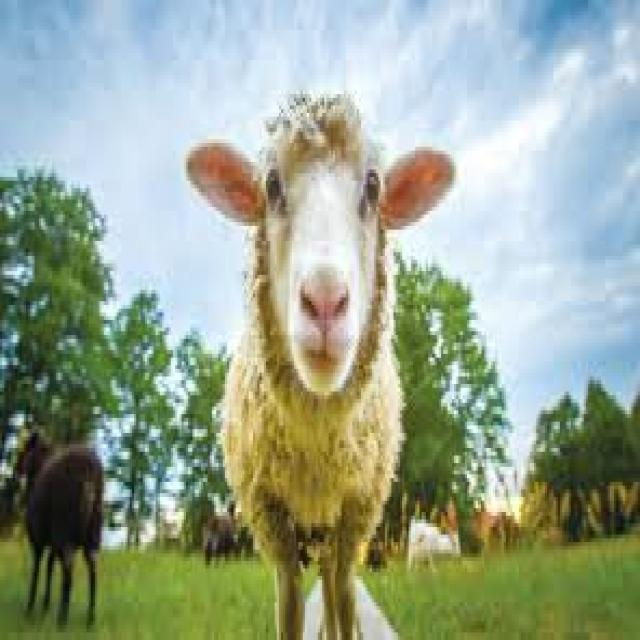sheep: (186, 94, 452, 636)
